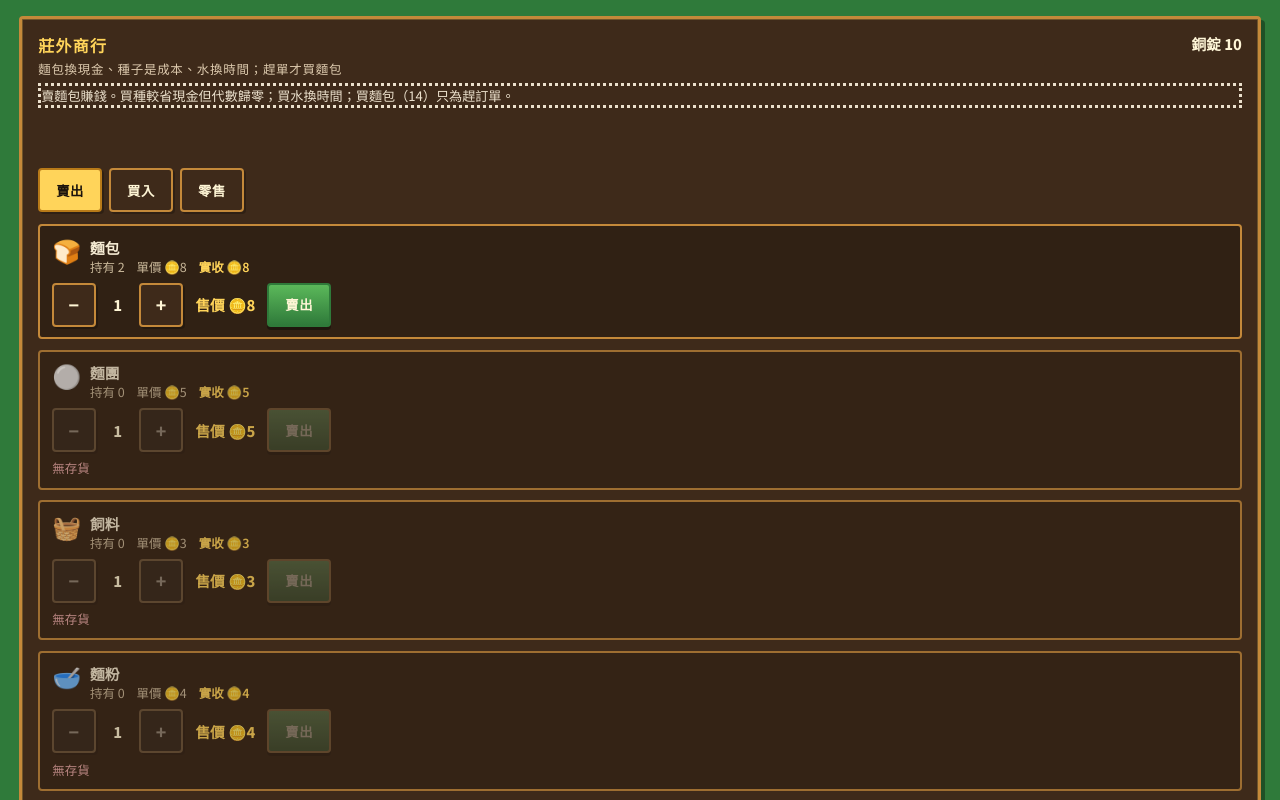
Test: MarketPanel › disables shelf ask apply while following market
Click the tab with test id "market-tab-retail". click: (212,190)
box: [180, 168, 244, 212]
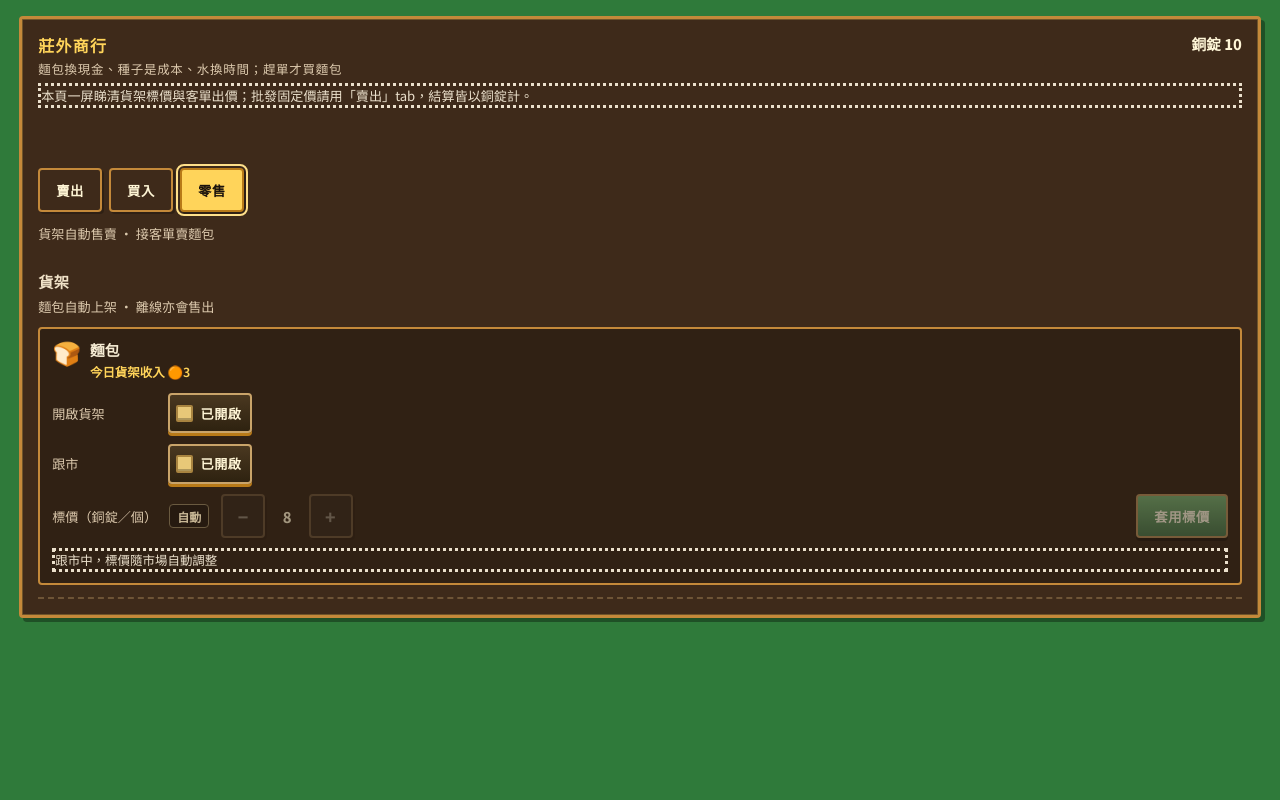
Now the button with test id "retail-shelf-ask-apply" is disabled, box [1136, 494, 1228, 538]
Now the text "跟市中，標價隨市場自動調整" is shown, box [52, 548, 1228, 572]
